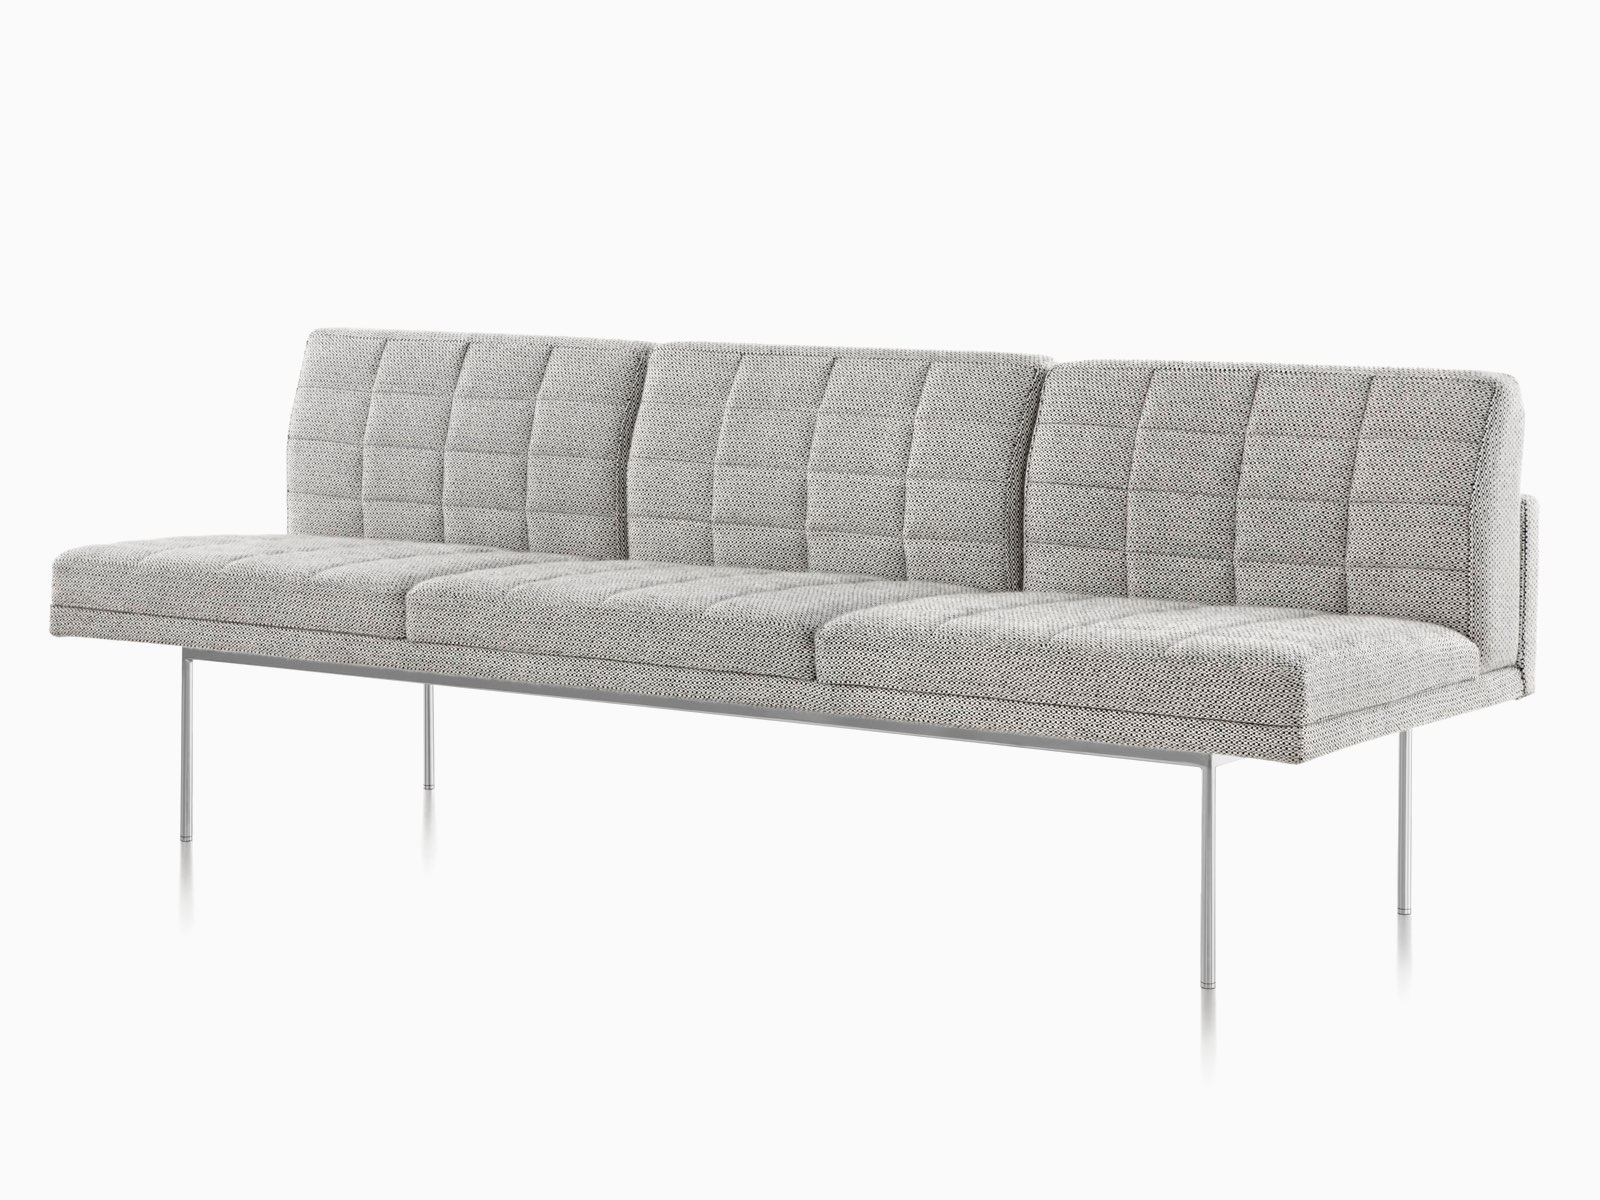chairs: (55, 313, 1546, 984)
